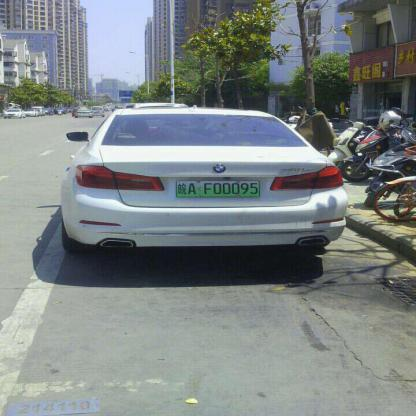lp: (176, 180, 258, 196)
